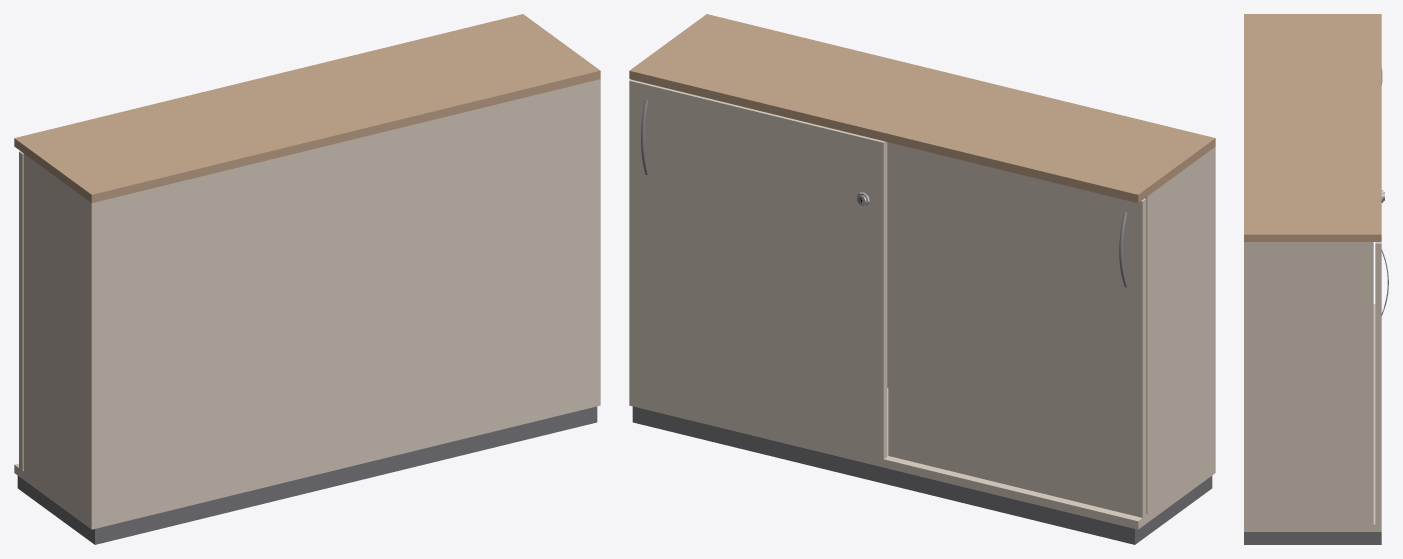
Rendered from Regal_fixed.obj.
The picture shows the model from 3 angles, left to right: view 1: azimuth 30°, elevation 25°; view 2: azimuth 150°, elevation 25°; view 3: azimuth 270°, elevation 25°; orthographic projection. The views are drawn at different scales.
Parts seen in each view (by area): view 1: Mesh1 Model; view 2: Mesh1 Model; view 3: Mesh1 Model.
Boxes of the visible parts, x1,y1,x2,y2 form: Mesh1 Model: (14, 14, 600, 544); Mesh1 Model: (629, 14, 1215, 544); Mesh1 Model: (1244, 14, 1388, 544).
Bounding box in the file's own units: 1.59 × 1.05 × 0.4416.
